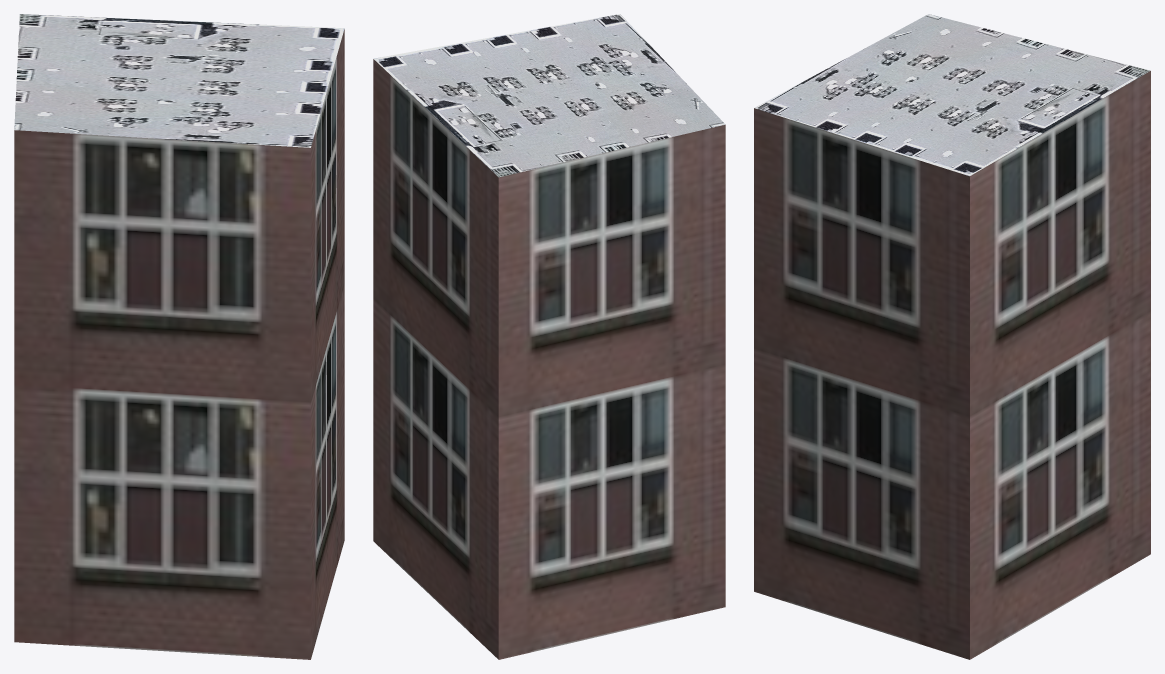
Rendered from ResTex__856.fbx.
3 renders of one model, left to right at view 1: azimuth 30°, elevation 25°; view 2: azimuth 150°, elevation 25°; view 3: azimuth 270°, elevation 25°, orthographic. The views are drawn at different scales.
Parts seen in each view (by area): view 1: CityEngineMaterial_12_m, CityEngineMaterial_4_m; view 2: CityEngineMaterial_12_m, CityEngineMaterial_4_m; view 3: CityEngineMaterial_12_m, CityEngineMaterial_4_m.
Part boxes in pixels (x1=…): CityEngineMaterial_12_m: x1=14, y1=29, x2=344, y2=659; CityEngineMaterial_4_m: x1=14, y1=14, x2=344, y2=147; CityEngineMaterial_12_m: x1=373, y1=59, x2=725, y2=659; CityEngineMaterial_4_m: x1=373, y1=14, x2=725, y2=177; CityEngineMaterial_12_m: x1=754, y1=71, x2=1150, y2=659; CityEngineMaterial_4_m: x1=754, y1=14, x2=1150, y2=176.
Size of the model in its own units: 4.32 by 6 by 4.46.
Materials: 2 (2 with a texture image).
